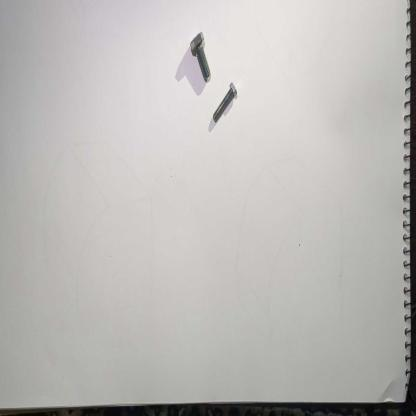Bolts: (211, 76, 240, 135), (185, 28, 214, 85)
